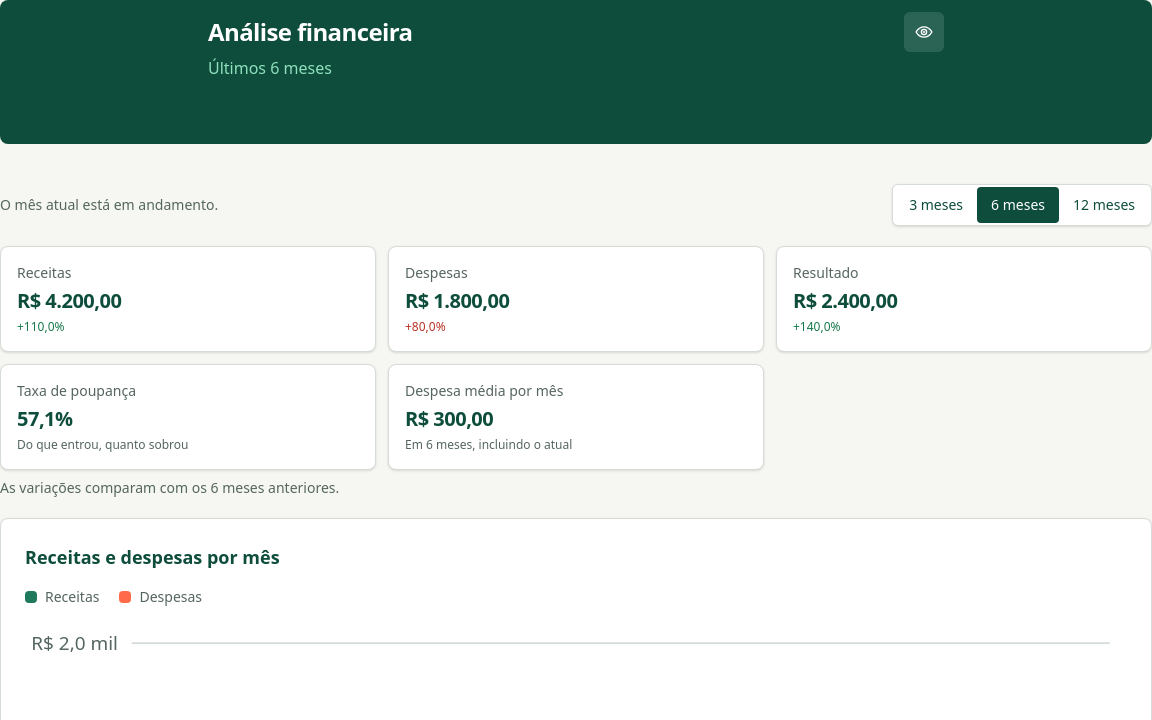
Scenario: página de análise financeira › carregando, e ao trocar de período não mostra os números do período antigo
Expected: the element named "Indicadores do período" is shown, [0,246,1151,498]
Click the button "12 meses" at (1104, 205), box [1059,187,1149,223]
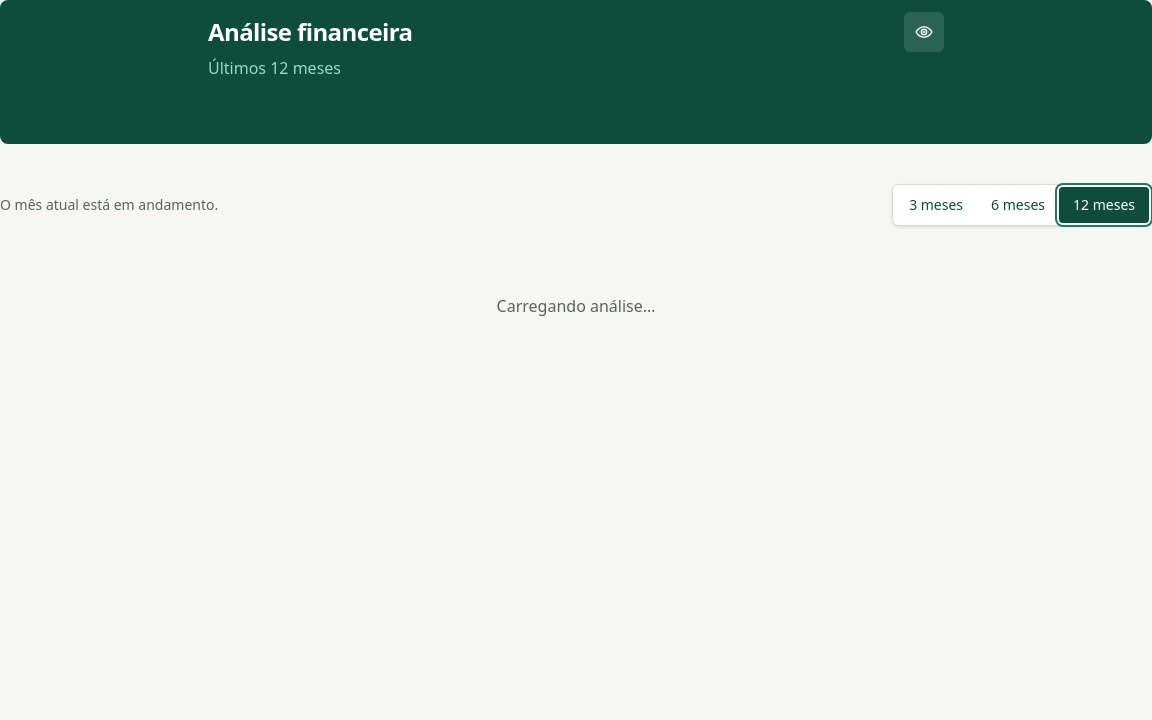
Expected: the message shows "Carregando análise", [497,295,655,317]
